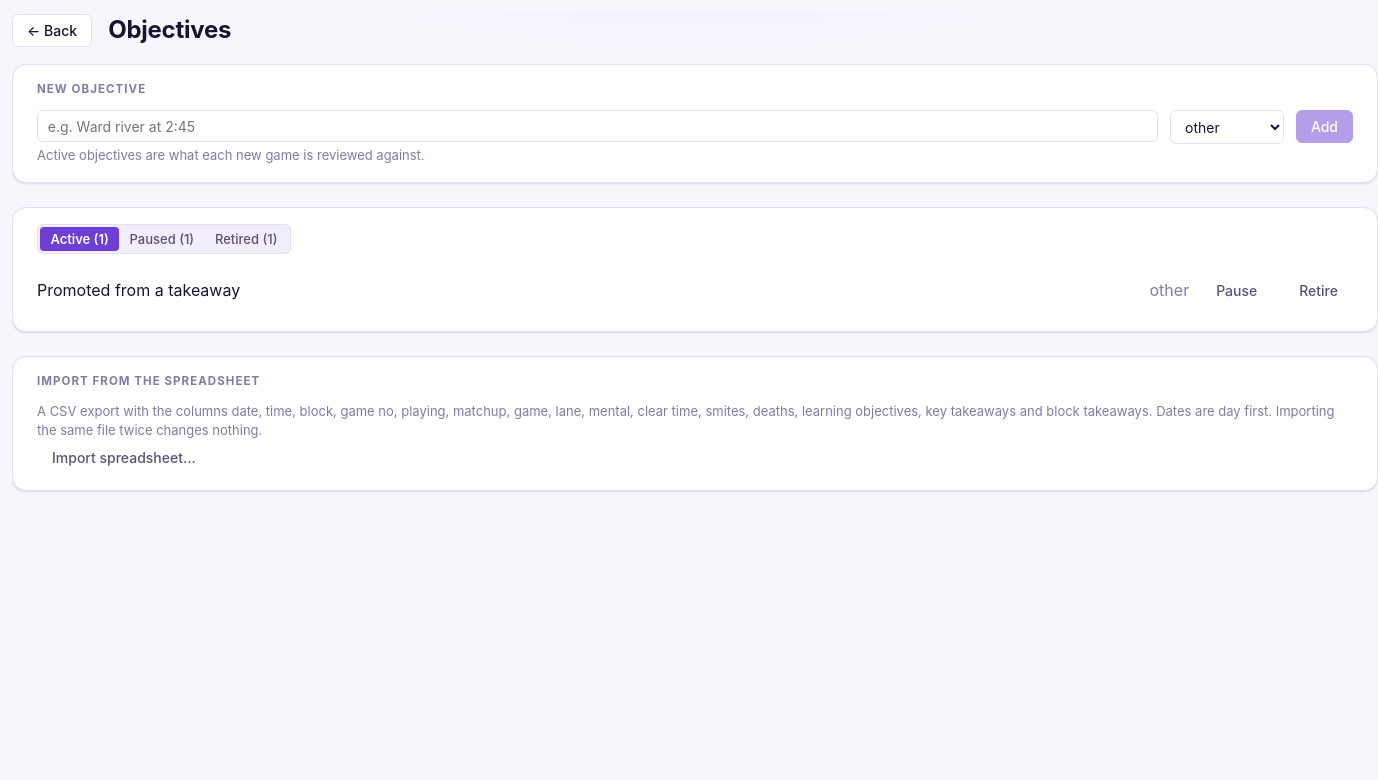
Test case: the objectives view › creates an active objective with the chosen category
Type "Ward at 2:45" into the field named "Objective" at (598, 126), box [37, 110, 1158, 142]
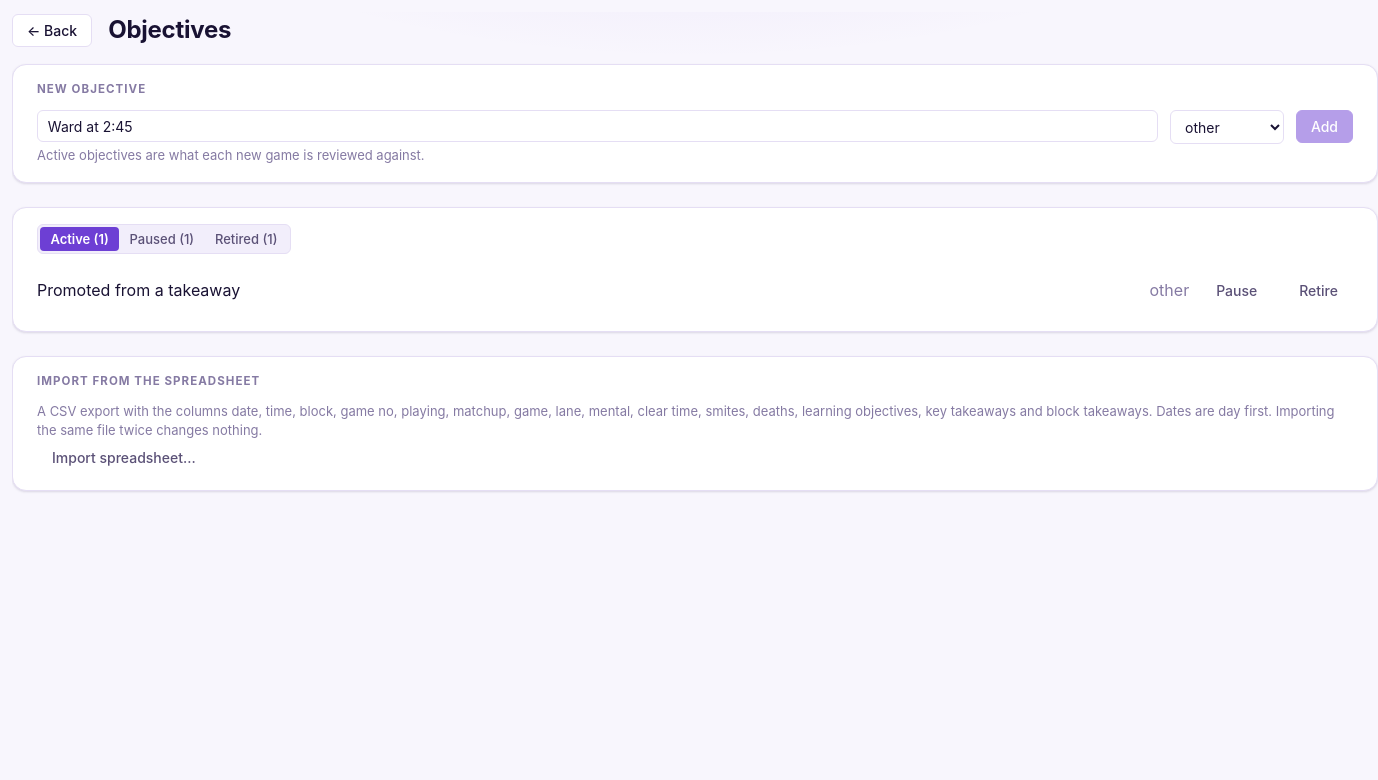
Select "macro" in the dropdown named "Category" at (1227, 127), box [1170, 110, 1284, 144]
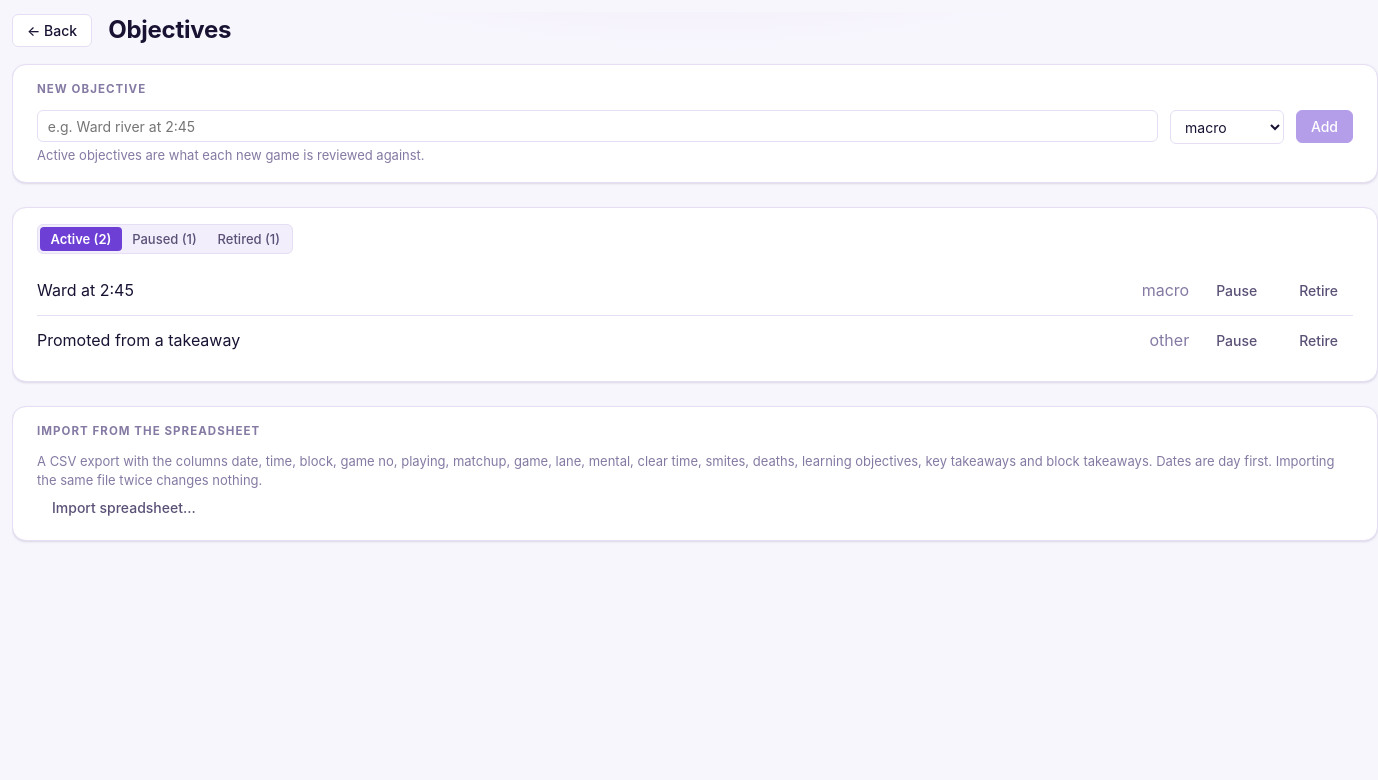
Expected: the text with class "objective-body" reads "Ward at 2:45", [37, 280, 134, 300]
Expected: the field named "Objective" is empty, [37, 110, 1158, 142]
